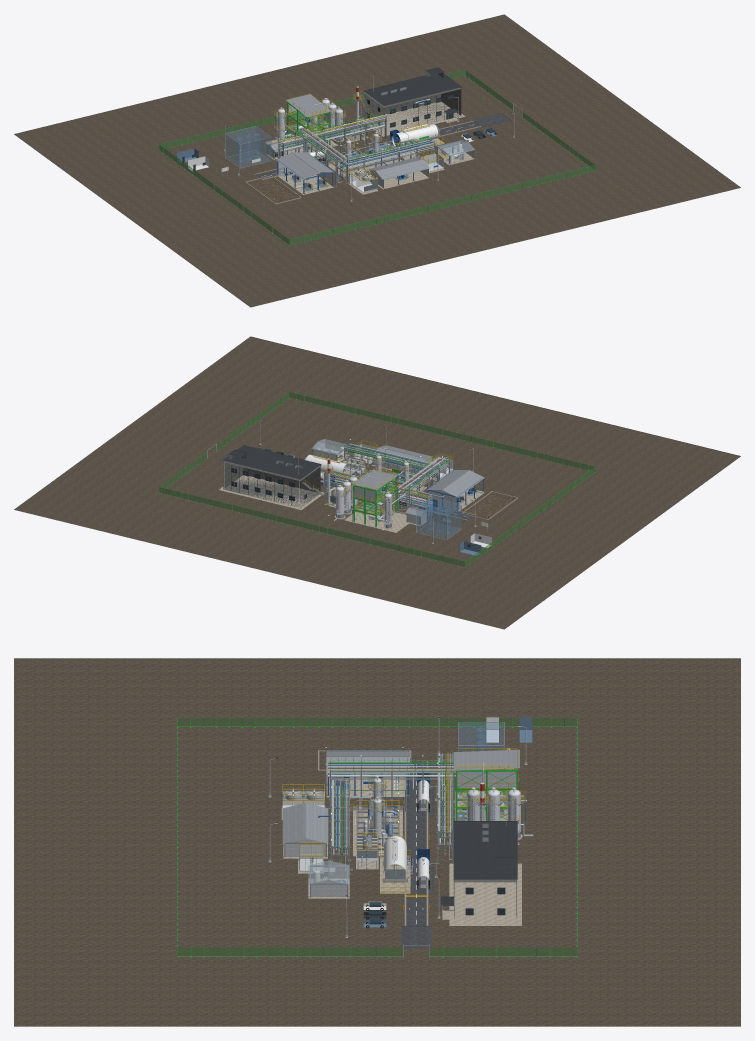
Rendered from ccu_plant.glb.
3 views of the same model, one above another, from view 1: azimuth 30°, elevation 25°; view 2: azimuth 150°, elevation 25°; view 3: azimuth 270°, elevation 25° (orthographic). The views are drawn at different scales.
Visible parts, largest first — view 1: site__gravel, site__chain, admin__dark, admin__wall, vsa__ghost, admin__concrete, site__green, road__asphalt, membrane__roof, rackA__galvdark, util__roof, rackB__galvdark (+5 smaller); view 2: site__gravel, site__chain, admin__wall, admin__dark, vsa__ghost, site__green, membrane__roof, admin__concrete, wet_str__green, wet__concrete, future__dirt, rackV__galvdark (+2 smaller); view 3: site__gravel, site__chain, admin__dark, admin__concrete, road__asphalt, site__green, util__roof, membrane__roof, vsa__ghost, wet_str__roof, rackV__galvdark, wet_str__cladwall (+11 smaller).
Boxes of the visible parts, x1,y1,x2,y2 form: site__gravel: (14,14,740,307); site__chain: (159,70,595,244); admin__dark: (364,67,461,127); admin__wall: (363,71,461,127); vsa__ghost: (226,126,270,167); admin__concrete: (359,101,465,136); site__green: (159,70,595,245); road__asphalt: (255,113,510,179); membrane__roof: (276,152,333,179); rackA__galvdark: (277,115,386,158); util__roof: (368,157,429,179); rackB__galvdark: (340,139,435,183); site__gravel: (14,336,740,629); site__chain: (159,392,595,566); admin__wall: (223,454,321,507); admin__dark: (223,445,321,505); vsa__ghost: (416,498,461,539); site__green: (159,392,595,567); membrane__roof: (427,470,484,497); admin__concrete: (219,475,323,509); wet_str__green: (353,477,399,526); wet__concrete: (344,504,409,532); future__dirt: (467,494,513,517); rackV__galvdark: (397,458,449,511); site__gravel: (14,658,740,1026); site__chain: (178,718,576,955); admin__dark: (441,821,517,916); admin__concrete: (442,863,521,925); road__asphalt: (401,762,431,948); site__green: (177,718,577,957); util__roof: (282,803,328,843); membrane__roof: (326,751,410,774); vsa__ghost: (459,722,503,751); wet_str__roof: (453,749,519,770); rackV__galvdark: (329,761,454,808); wet_str__cladwall: (457,772,516,787).
Size of what is drawn, in the model's own units: 170 by 15.5 by 142.
45 materials, 45 textured.
